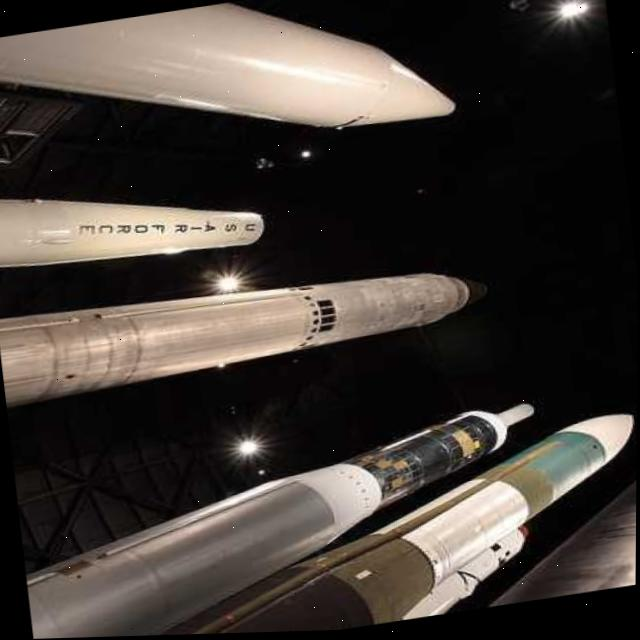missile: (13, 400, 563, 640), (122, 412, 638, 637), (0, 0, 467, 185), (0, 251, 491, 408), (0, 161, 266, 286)
